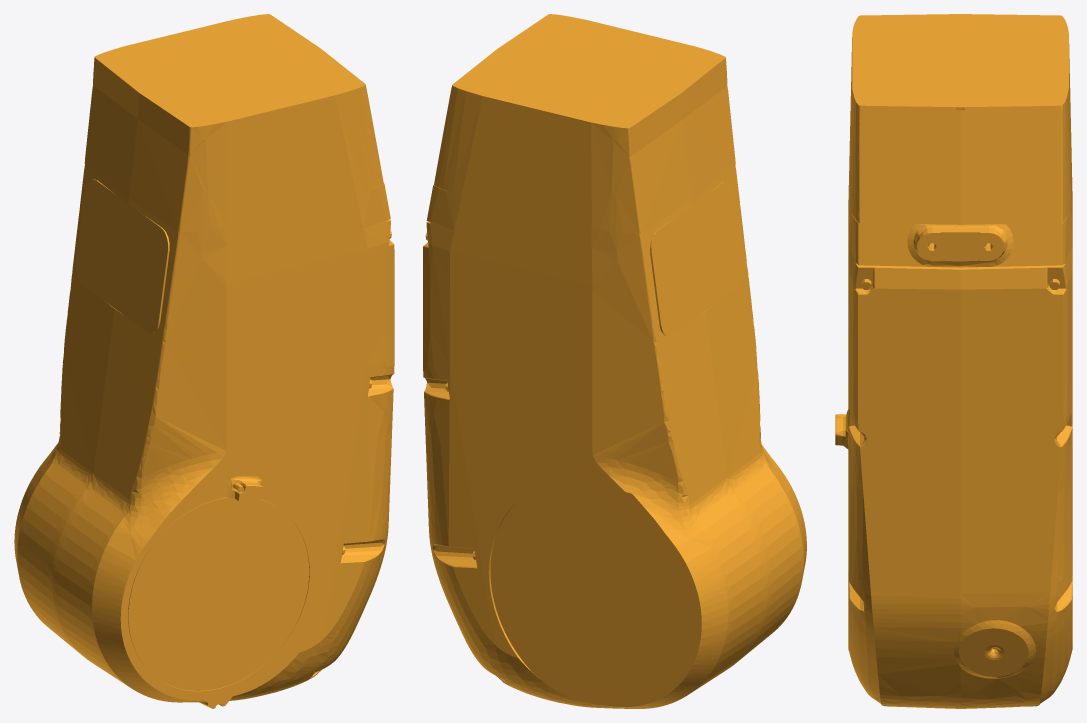
Rendered from ABBIRB1200Link3.dae.
The picture shows the model from 3 angles, left to right: view 1: azimuth 30°, elevation 25°; view 2: azimuth 150°, elevation 25°; view 3: azimuth 270°, elevation 25°; orthographic projection. The views are drawn at different scales.
Parts seen in each view (by area): view 1: ABBIRB1200Link3; view 2: ABBIRB1200Link3; view 3: ABBIRB1200Link3.
Part boxes in pixels (x1,y1,x2,y2): ABBIRB1200Link3: (14,14,394,708); ABBIRB1200Link3: (423,14,806,708); ABBIRB1200Link3: (835,14,1072,708).
Size of the model in its own units: 0.193 by 0.126 by 0.3692.
